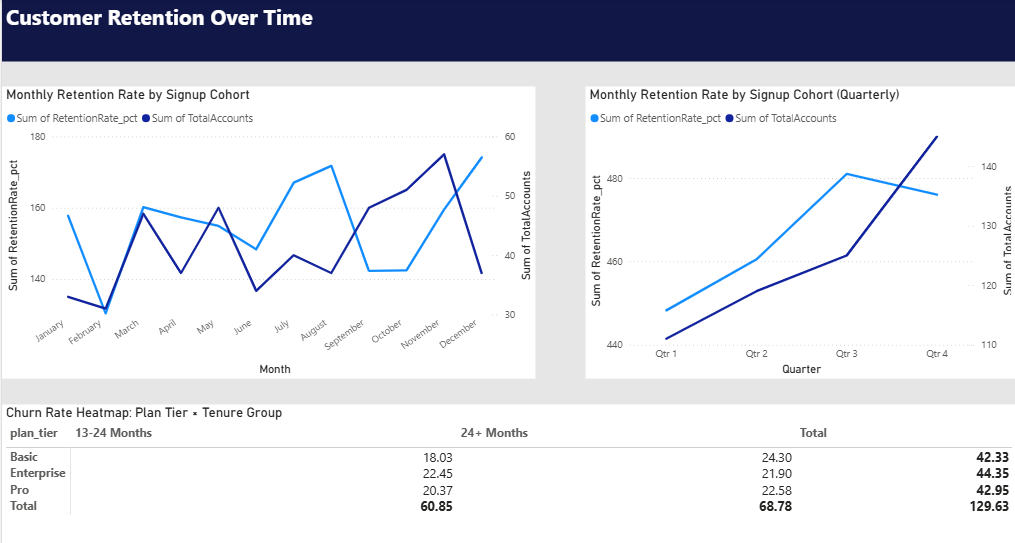

This screenshot's page, from the dashboard's own definition file:
{"tool":"powerbi","page":{"name":"Cohort Retention","canvas":[1280,720],"ordinal":2},"visuals":[{"type":"textbox","box":[0,0,1280,80],"z":0},{"type":"lineChart","title":"Monthly Retention Rate by Signup Cohort","fields":{"Category":["cohort_retention.signup_month.Variation.Date Hierarchy.Month","cohort_retention.signup_month.Variation.Date Hierarchy.Day"],"Y":["Sum(cohort_retention.RetentionRate_pct)"],"Y2":["Sum(cohort_retention.TotalAccounts)"]},"box":[0,112,672,368],"z":1000},{"type":"lineChart","title":"Monthly Retention Rate by Signup Cohort (Quarterly)","fields":{"Y":["Sum(cohort_retention.RetentionRate_pct)"],"Y2":["Sum(cohort_retention.TotalAccounts)"],"Category":["cohort_retention.signup_month.Variation.Date Hierarchy.Quarter"]},"box":[736,112,544,368],"z":2000},{"type":"pivotTable","title":"Churn Rate Heatmap: Plan Tier × Tenure Group","fields":{"Rows":["churn_heatmap.plan_tier"],"Columns":["churn_heatmap.TenureGroup"],"Values":["Sum(churn_heatmap.ChurnRate_pct)"]},"box":[0,512,1280,176],"z":3000}]}

Visuals, with their boxes on the page's 1280x720 design canvas (x1, y1, x2, y2). These are canvas units, not pixel positions in the 1015x543 screenshot, which may show the page scaled, cropped or inside an application window:
textbox: (0, 0, 1280, 80)
"Monthly Retention Rate by Signup Cohort" lineChart: (0, 112, 672, 480)
"Monthly Retention Rate by Signup Cohort (Quarterly)" lineChart: (736, 112, 1280, 480)
"Churn Rate Heatmap: Plan Tier × Tenure Group" pivotTable: (0, 512, 1280, 688)
